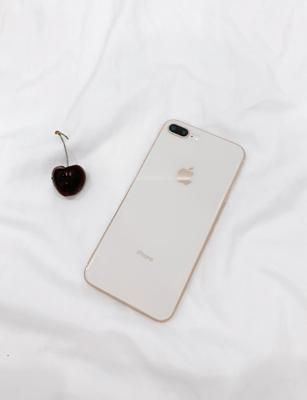cell-phone: (83, 120, 249, 326)
